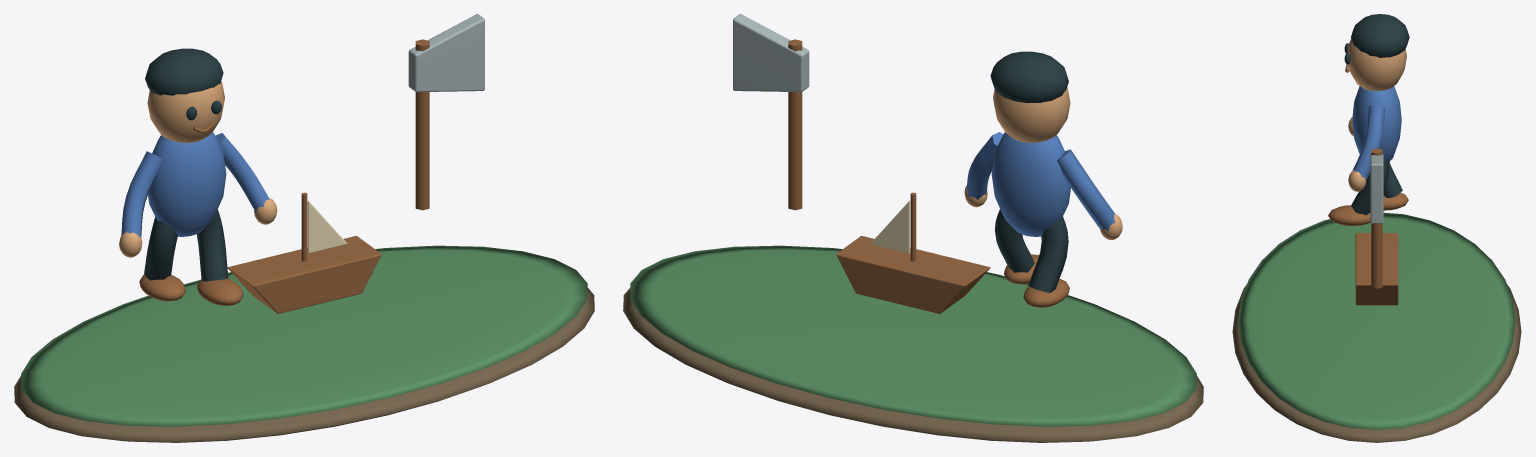
File: complete-first-new-parent-axe.glb
3 views of the same model, side by side, from view 1: azimuth 30°, elevation 25°; view 2: azimuth 150°, elevation 25°; view 3: azimuth 270°, elevation 25° (orthographic). The views are drawn at different scales.
Visible parts, largest first — view 1: complete-first-new-parent-axe_surface_01, complete-first-new-parent-axe_surface_04, complete-first-new-parent-axe_surface_00, complete-first-new-parent-axe_surface_05, complete-first-new-parent-axe_surface_03, complete-first-new-parent-axe_surface_06, complete-first-new-parent-axe_surface_02, complete-first-new-parent-axe_surface_07; view 2: complete-first-new-parent-axe_surface_01, complete-first-new-parent-axe_surface_04, complete-first-new-parent-axe_surface_00, complete-first-new-parent-axe_surface_05, complete-first-new-parent-axe_surface_03, complete-first-new-parent-axe_surface_06, complete-first-new-parent-axe_surface_02, complete-first-new-parent-axe_surface_07; view 3: complete-first-new-parent-axe_surface_01, complete-first-new-parent-axe_surface_00, complete-first-new-parent-axe_surface_04, complete-first-new-parent-axe_surface_05, complete-first-new-parent-axe_surface_03, complete-first-new-parent-axe_surface_02, complete-first-new-parent-axe_surface_06.
Boxes of the visible parts, x1=… form: complete-first-new-parent-axe_surface_01: x1=21, y1=245, x2=587, y2=426; complete-first-new-parent-axe_surface_04: x1=139, y1=39, x2=429, y2=313; complete-first-new-parent-axe_surface_00: x1=14, y1=288, x2=594, y2=442; complete-first-new-parent-axe_surface_05: x1=121, y1=132, x2=269, y2=237; complete-first-new-parent-axe_surface_03: x1=144, y1=48, x2=228, y2=281; complete-first-new-parent-axe_surface_06: x1=408, y1=14, x2=484, y2=92; complete-first-new-parent-axe_surface_02: x1=119, y1=81, x2=277, y2=257; complete-first-new-parent-axe_surface_07: x1=307, y1=200, x2=347, y2=253; complete-first-new-parent-axe_surface_01: x1=630, y1=245, x2=1196, y2=426; complete-first-new-parent-axe_surface_04: x1=788, y1=39, x2=1069, y2=313; complete-first-new-parent-axe_surface_00: x1=623, y1=288, x2=1203, y2=442; complete-first-new-parent-axe_surface_05: x1=966, y1=132, x2=1115, y2=236; complete-first-new-parent-axe_surface_03: x1=990, y1=51, x2=1068, y2=292; complete-first-new-parent-axe_surface_06: x1=733, y1=14, x2=809, y2=92; complete-first-new-parent-axe_surface_02: x1=964, y1=87, x2=1122, y2=239; complete-first-new-parent-axe_surface_07: x1=870, y1=200, x2=910, y2=253; complete-first-new-parent-axe_surface_01: x1=1238, y1=212, x2=1515, y2=429; complete-first-new-parent-axe_surface_00: x1=1232, y1=284, x2=1521, y2=442; complete-first-new-parent-axe_surface_04: x1=1328, y1=64, x2=1408, y2=305; complete-first-new-parent-axe_surface_05: x1=1352, y1=86, x2=1401, y2=181; complete-first-new-parent-axe_surface_03: x1=1344, y1=14, x2=1409, y2=215; complete-first-new-parent-axe_surface_02: x1=1347, y1=39, x2=1406, y2=191; complete-first-new-parent-axe_surface_06: x1=1370, y1=153, x2=1383, y2=223.
Size of the model in its own units: 4.56 by 2.67 by 2.5.
